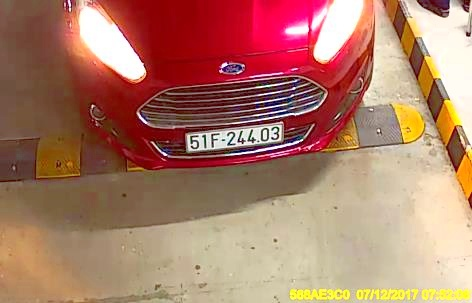plate: (187, 124, 288, 154)
